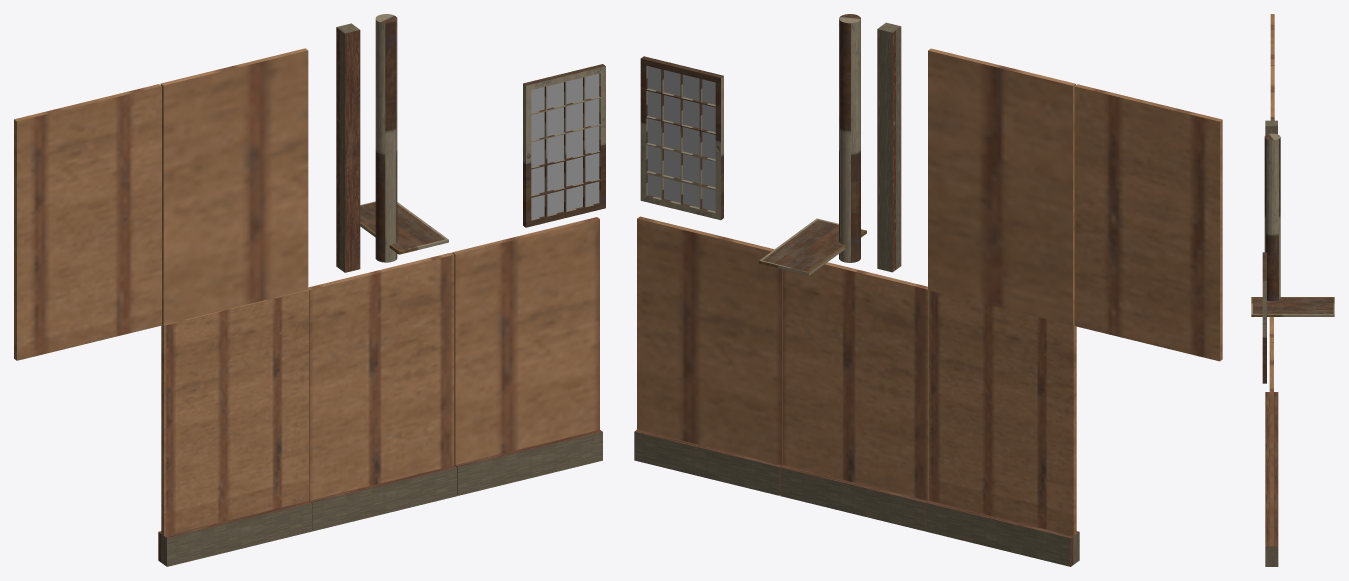
File: wallPieces.fbx
3 renders of one model, left to right at view 1: azimuth 30°, elevation 25°; view 2: azimuth 150°, elevation 25°; view 3: azimuth 270°, elevation 25°, orthographic. The views are drawn at different scales.
Parts seen in each view (by area): view 1: Wall__1__8, Cube__5_2, Wall__1__10, Wall__1__9, Cube__5_1, pCube1, Pillar__2__6, pCylinder1, NormDoor_25, pCube20; view 2: Wall__1__8, Cube__5_2, Cube__5_1, Wall__1__10, Wall__1__9, pCube1, Pillar__2__6, NormDoor_25, pCylinder1, pCube20; view 3: pCylinder1, Wall__1__10, pCube20, NormDoor_25, Wall__1__9, Wall__1__8, Cube__5_1, Cube__5_2, Pillar__2__6.
Boxes of the visible parts, x1=… form: Wall__1__8: x1=158, y1=289, x2=311, y2=566; Cube__5_2: x1=14, y1=84, x2=161, y2=360; Wall__1__10: x1=452, y1=217, x2=602, y2=495; Wall__1__9: x1=308, y1=252, x2=457, y2=531; Cube__5_1: x1=160, y1=48, x2=308, y2=324; pCube1: x1=531, y1=73, x2=599, y2=219; Pillar__2__6: x1=336, y1=23, x2=360, y2=272; pCylinder1: x1=375, y1=14, x2=397, y2=262; NormDoor_25: x1=523, y1=64, x2=605, y2=227; pCube20: x1=360, y1=201, x2=448, y2=254; Wall__1__8: x1=925, y1=290, x2=1079, y2=566; Cube__5_2: x1=1074, y1=84, x2=1222, y2=361; Cube__5_1: x1=928, y1=48, x2=1075, y2=325; Wall__1__10: x1=634, y1=216, x2=782, y2=495; Wall__1__9: x1=780, y1=262, x2=928, y2=531; pCube1: x1=647, y1=66, x2=715, y2=211; Pillar__2__6: x1=877, y1=22, x2=901, y2=272; NormDoor_25: x1=640, y1=56, x2=723, y2=220; pCylinder1: x1=839, y1=14, x2=860, y2=262; pCube20: x1=759, y1=218, x2=866, y2=275; pCylinder1: x1=1264, y1=133, x2=1280, y2=301; Wall__1__10: x1=1265, y1=342, x2=1278, y2=566; pCube20: x1=1251, y1=297, x2=1334, y2=316; NormDoor_25: x1=1262, y1=252, x2=1266, y2=383; Wall__1__9: x1=1265, y1=317, x2=1278, y2=494; Wall__1__8: x1=1265, y1=392, x2=1278, y2=443; Cube__5_1: x1=1270, y1=66, x2=1274, y2=120; Cube__5_2: x1=1270, y1=14, x2=1274, y2=65; Pillar__2__6: x1=1265, y1=120, x2=1277, y2=135.
Bounding box in the file's own units: 765 × 614 × 131.
